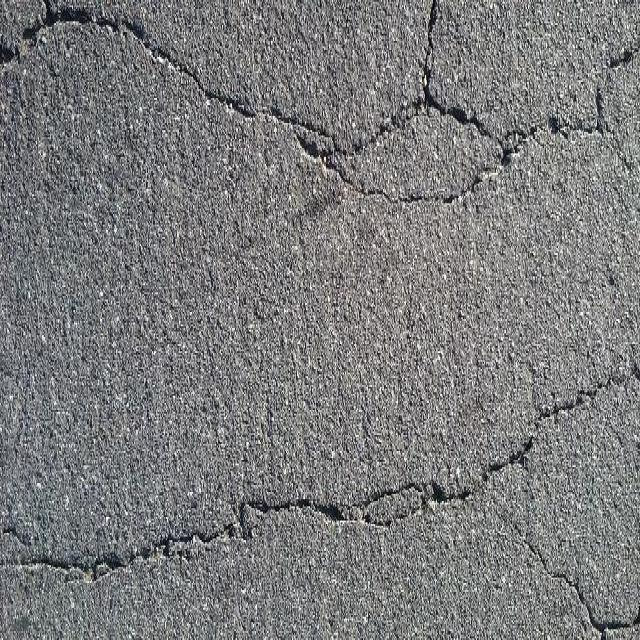moderate crack: (560, 8, 640, 144), (81, 551, 134, 576), (421, 481, 468, 508), (592, 85, 608, 132)
severe crack: (0, 9, 399, 576), (463, 123, 639, 426), (316, 373, 621, 521), (275, 0, 499, 200), (204, 516, 510, 637), (7, 511, 248, 578), (118, 24, 265, 127), (529, 531, 629, 634), (11, 3, 150, 68), (240, 490, 384, 527), (420, 74, 484, 135), (266, 106, 351, 151), (460, 142, 521, 194), (482, 438, 534, 481), (353, 482, 424, 510), (223, 503, 258, 543), (596, 367, 635, 397), (586, 611, 632, 634), (315, 148, 342, 176), (19, 20, 47, 42), (348, 132, 372, 155), (245, 497, 274, 513)
